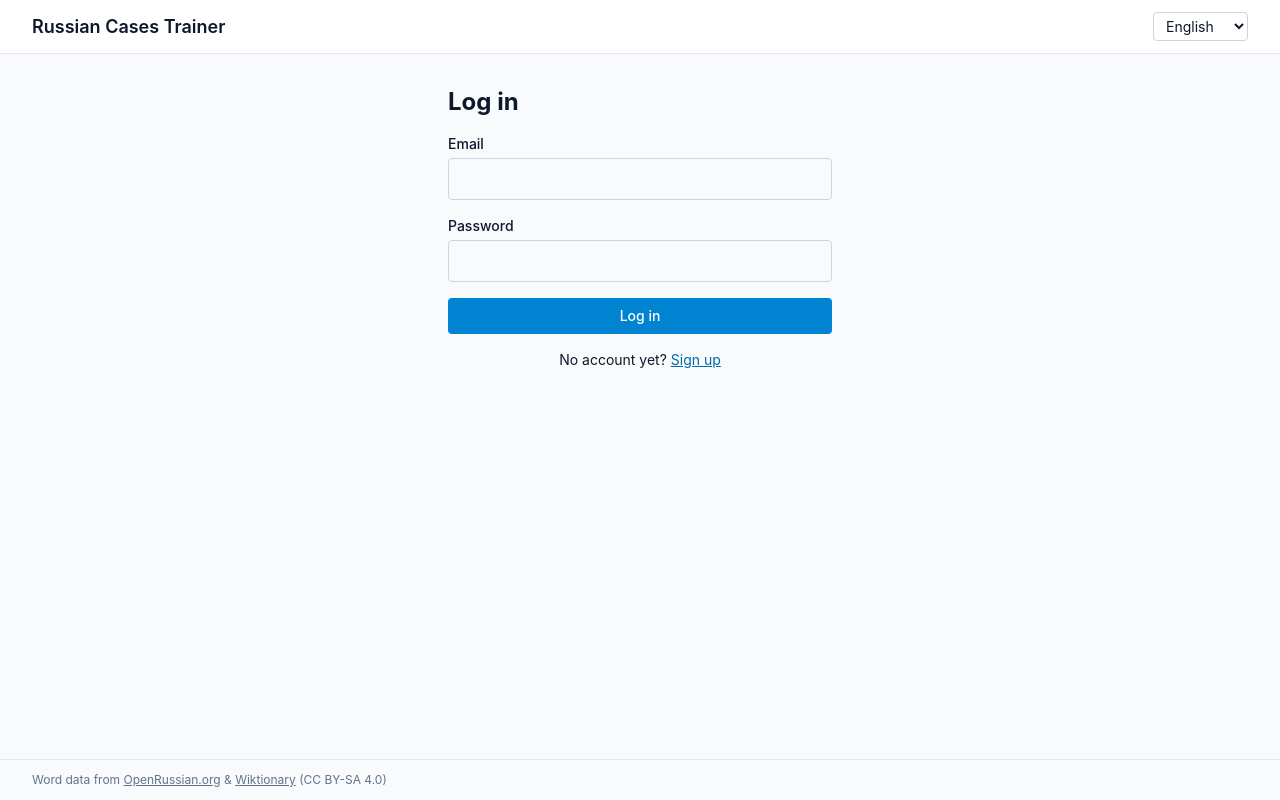
Test: login › shows wrong credentials
Type "anna@example.com" into the field labelled "Email" at (640, 179), box [448, 158, 832, 200]
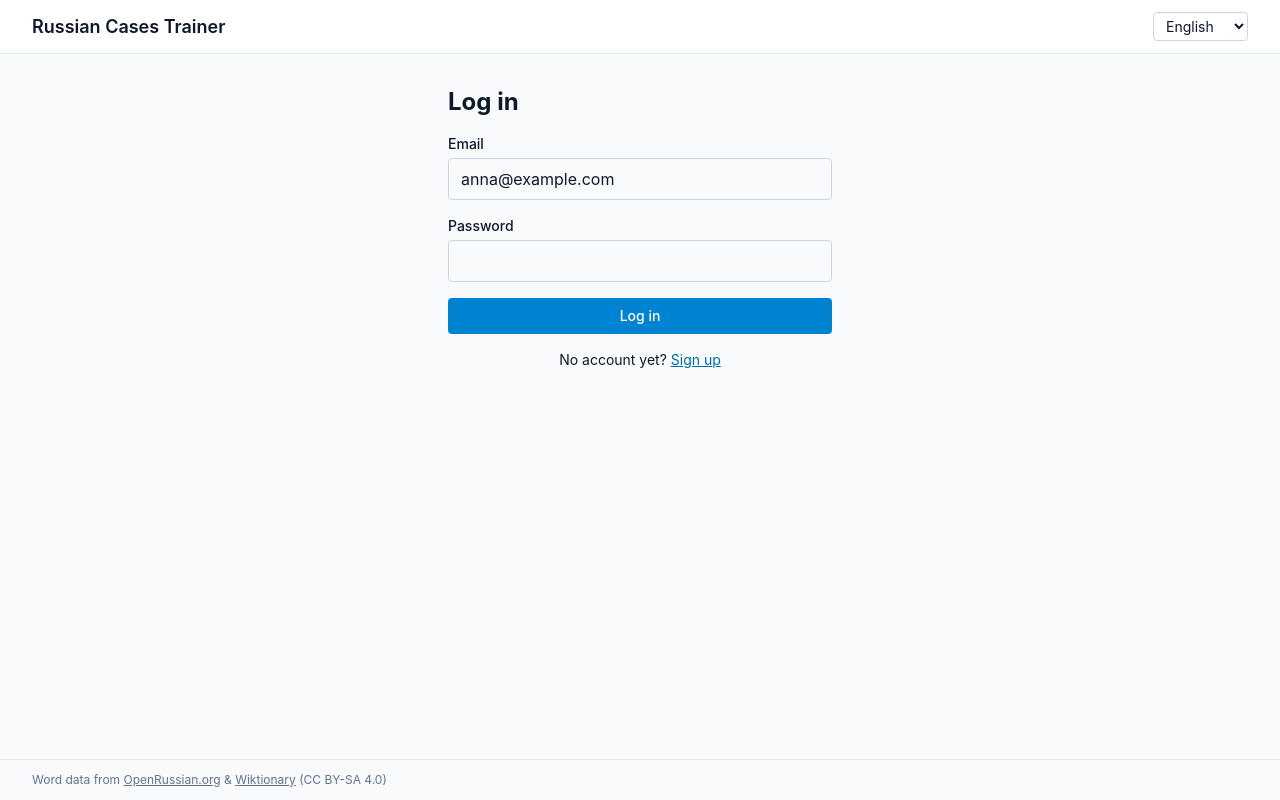
Type "wrong password" into the password field labelled "Password" at (640, 261), box [448, 240, 832, 282]
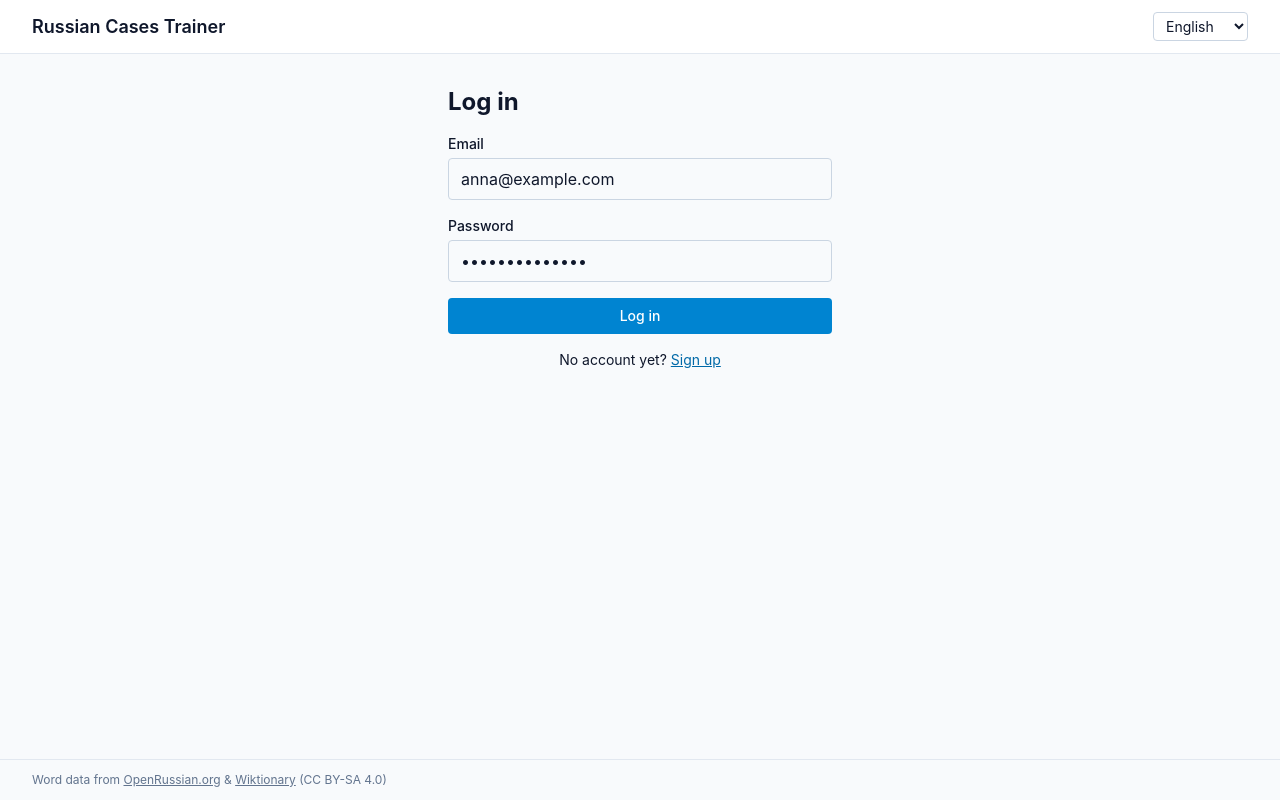
Click the button "Log in" at (640, 316), box [448, 298, 832, 334]
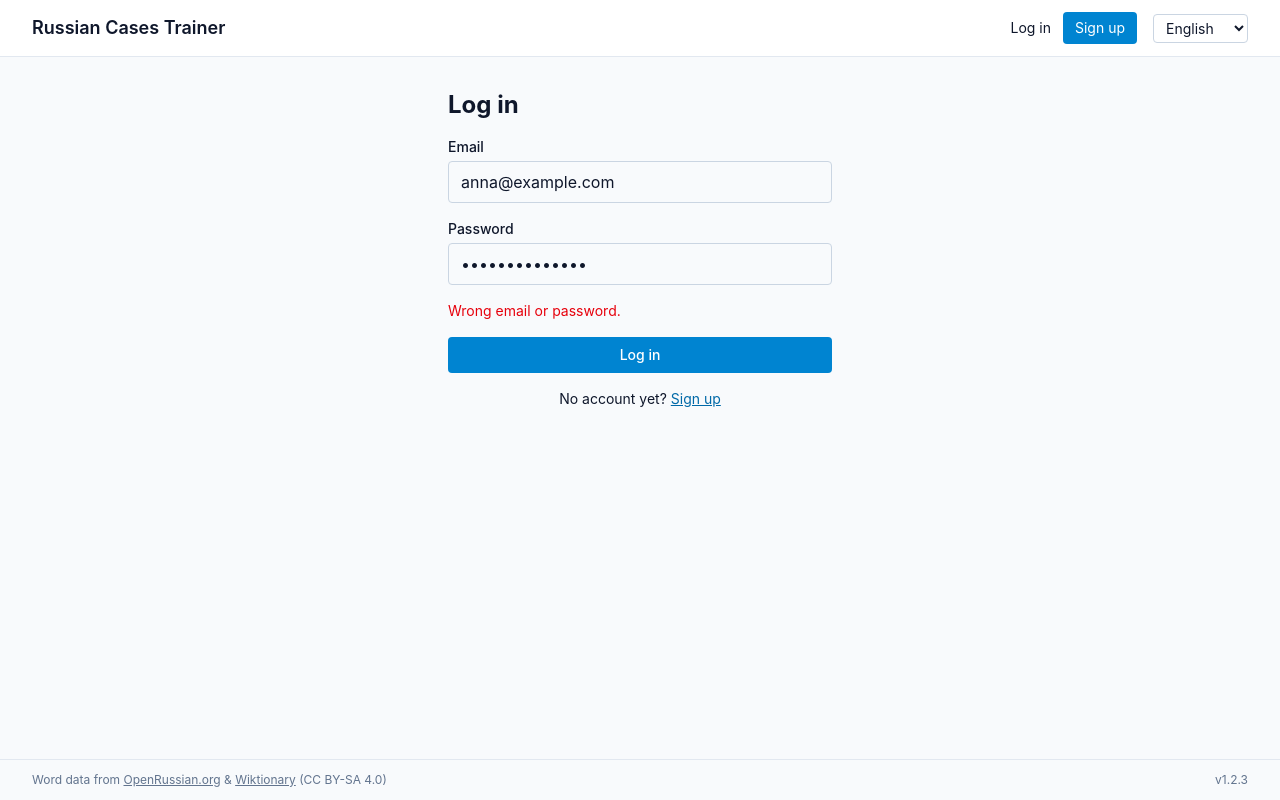
Expected: the message reads "Wrong email or password.", [448, 302, 621, 319]
